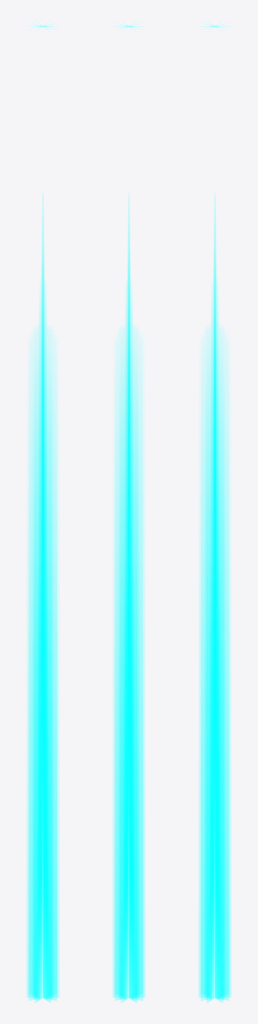
Rendered from light_beam.gltf.
The picture shows the model from 3 angles, left to right: view 1: azimuth 90°, elevation 25°; view 2: azimuth 150°, elevation 25°; view 3: azimuth 270°, elevation 25°; orthographic projection.
Visible parts, largest first — view 1: Polygon_5, Polygon, Polygon_4, Polygon_1, Polygon_3; view 2: Polygon_1, Polygon_2, Polygon, Polygon_3, Polygon_5; view 3: Polygon_5, Polygon, Polygon_4, Polygon_1, Polygon_3.
Part boxes in pixels (x1,y1,x2,y2): Polygon_5: (27,26,58,997); Polygon: (38,25,56,1000); Polygon_4: (29,25,47,1000); Polygon_1: (41,25,50,1002); Polygon_3: (35,25,44,1002); Polygon_1: (113,26,144,997); Polygon_2: (124,25,142,1000); Polygon: (115,25,133,1000); Polygon_3: (127,25,136,1002); Polygon_5: (121,25,130,1002); Polygon_5: (199,26,230,997); Polygon: (210,25,228,1000); Polygon_4: (201,25,219,1000); Polygon_1: (213,25,222,1002); Polygon_3: (207,25,216,1002).
Size of what is drawn, in the model's own units: 19.96 by 373 by 19.96.
6 materials, 6 textured.
